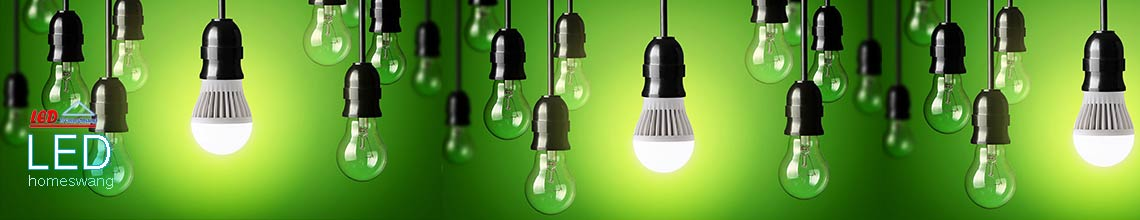Light_bulb: (629, 41, 697, 178), (1069, 92, 1140, 174), (188, 81, 260, 153), (331, 112, 393, 186), (958, 141, 1022, 210), (522, 147, 587, 211), (743, 20, 793, 89), (304, 6, 353, 71), (545, 57, 594, 116), (780, 138, 826, 200), (924, 75, 971, 133), (486, 80, 528, 141)
